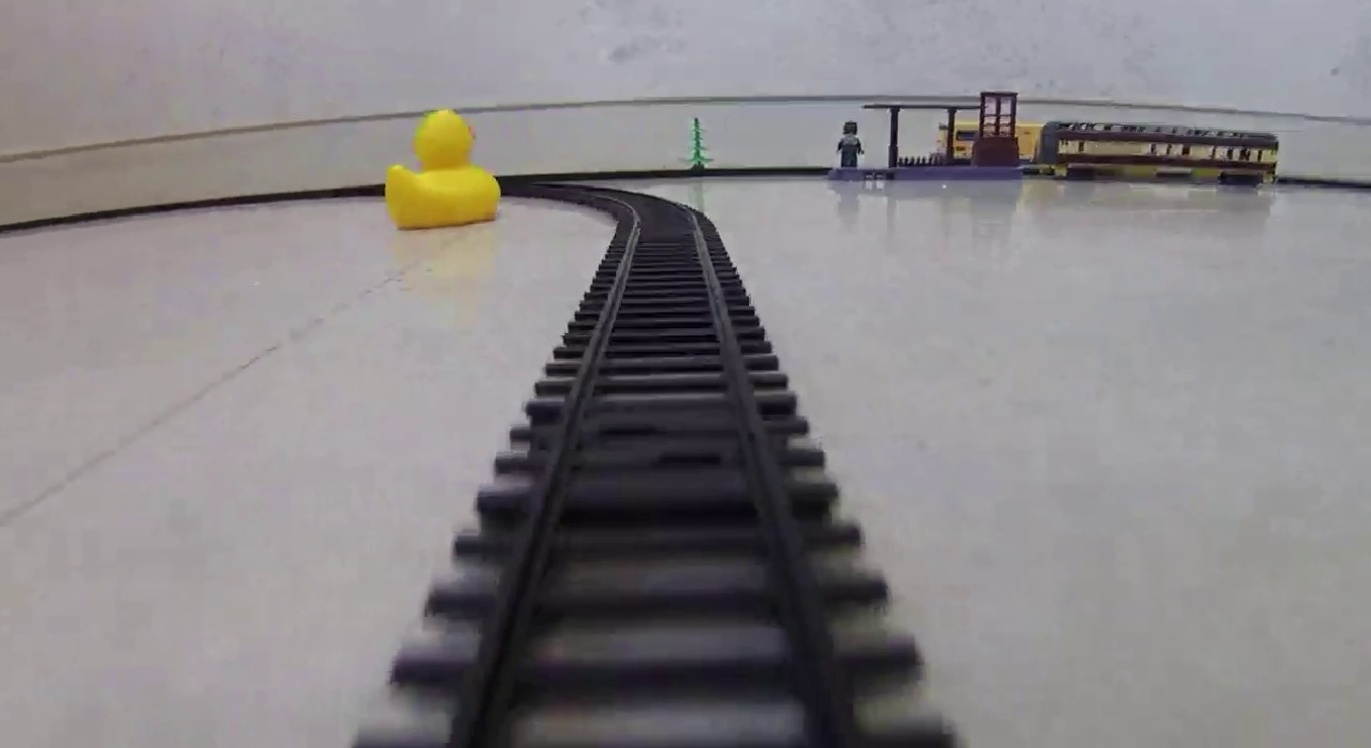people: (834, 120, 867, 170)
tree: (680, 116, 717, 174)
